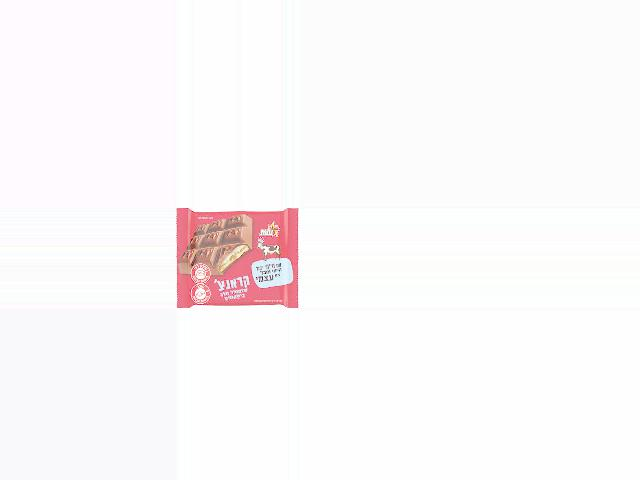chocolate: (178, 209, 294, 309)
